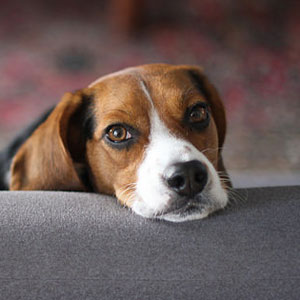dog: (5, 61, 258, 223)
